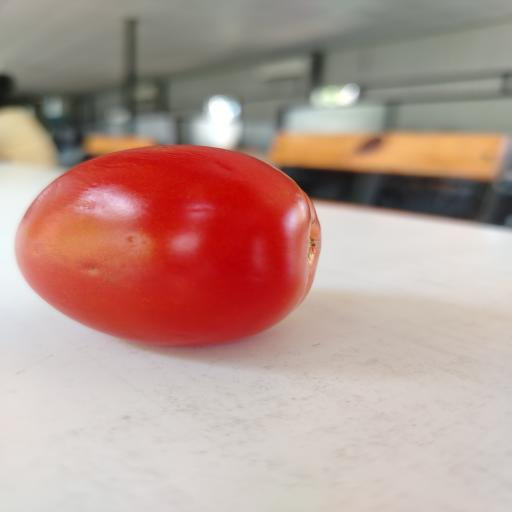ripe: (16, 146, 320, 346)
